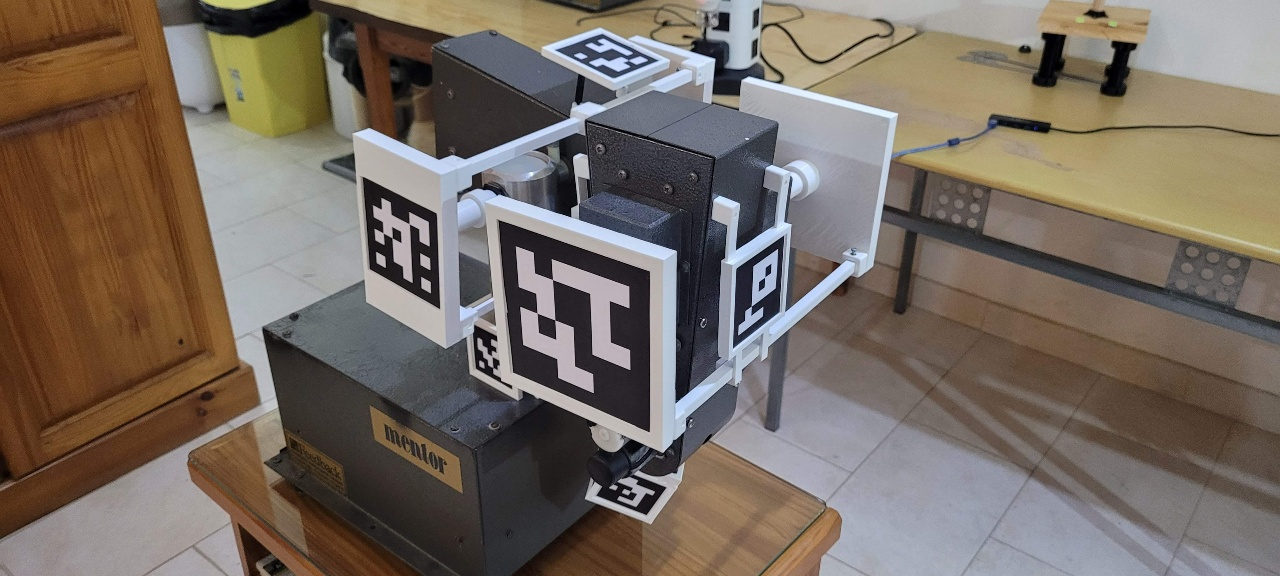Robot: (351, 25, 903, 526)
